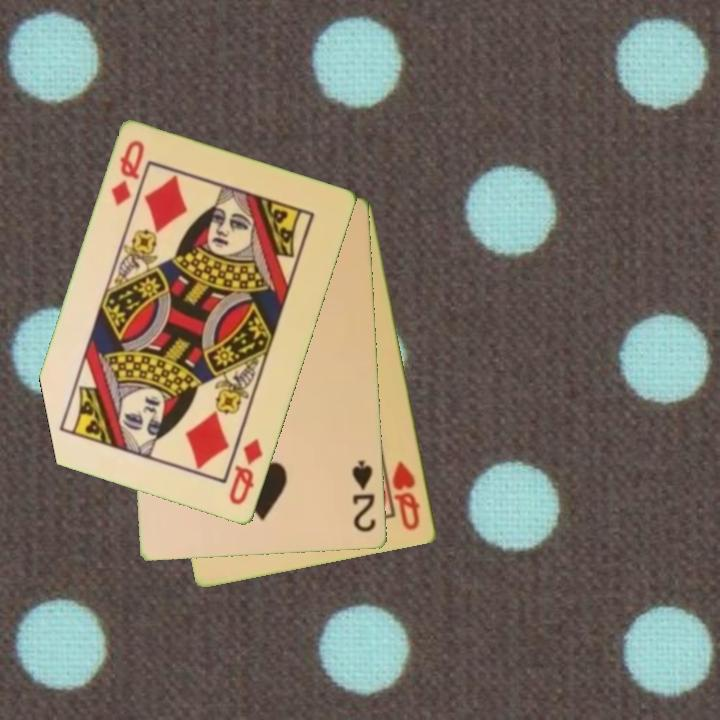2s: (349, 457, 379, 535)
Qd: (226, 435, 266, 509), (107, 137, 148, 209)
Qh: (389, 458, 424, 534)
